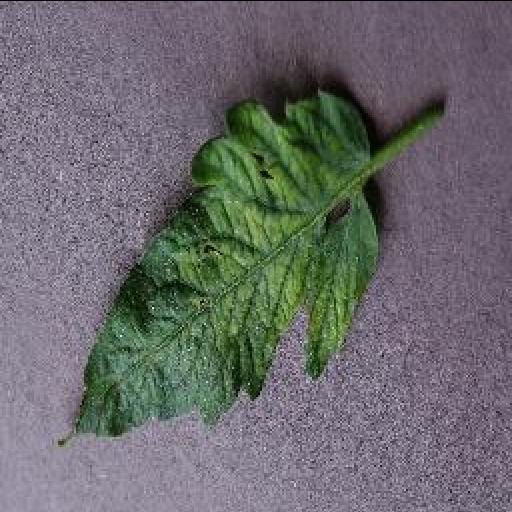Mosaic Virus: (74, 87, 382, 437)
